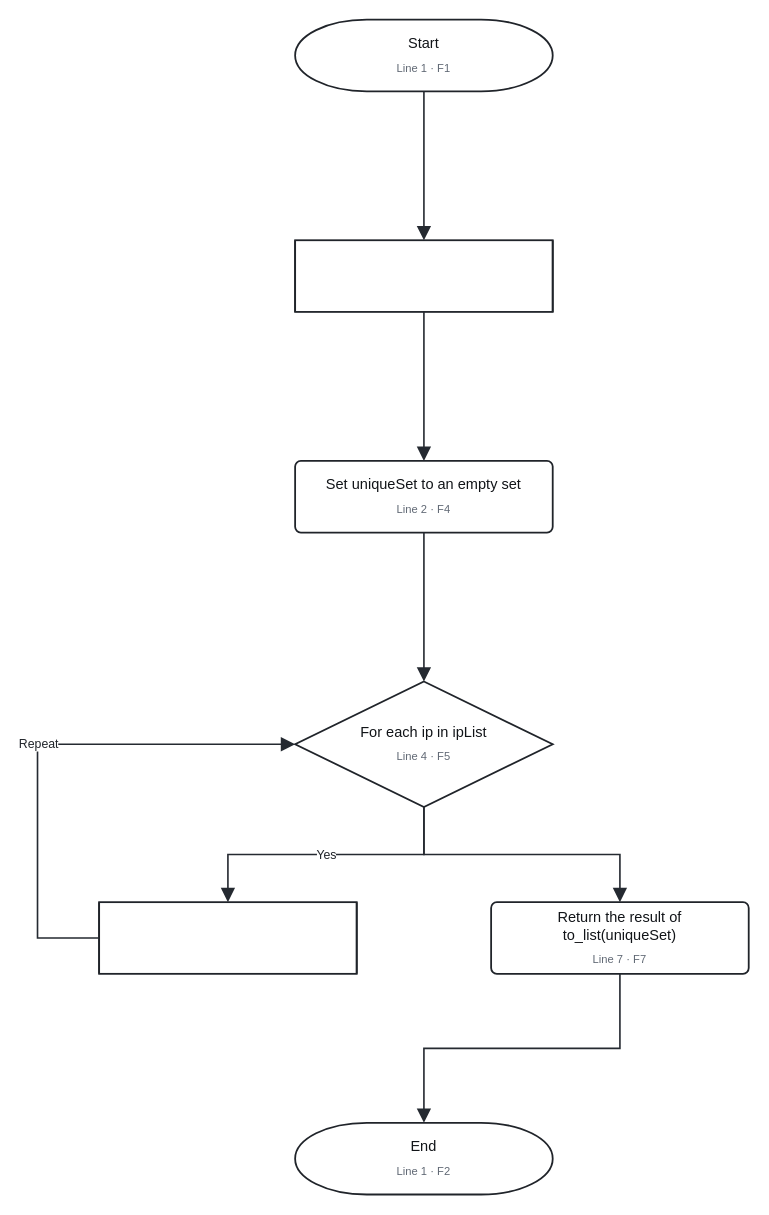
Some shapes in this 769 by 1215 pixel diagram are drawn without their labels. Here are the shapes that lost their labels. From the top down, the centre of each, then its label:
point 423,275: Run function unnamed_function with ipList Line 1 · F3
point 227,937: Call add_to_set with uniqueSet, ip Line 5 · F6
